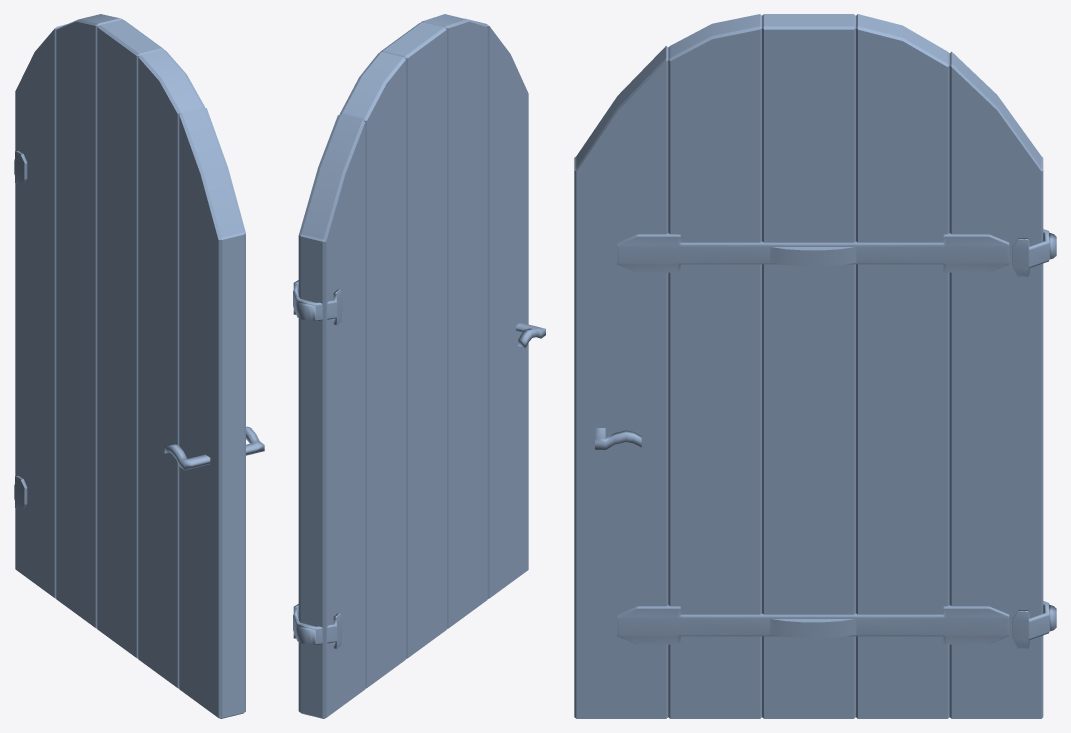
The model's file is SM_sealed_guard_room.fbx.
The picture shows the model from 3 angles, left to right: view 1: azimuth 30°, elevation 25°; view 2: azimuth 150°, elevation 25°; view 3: azimuth 270°, elevation 25°; orthographic projection. The views are drawn at different scales.
Visible parts, largest first — view 1: polySurface724; view 2: polySurface724; view 3: polySurface724.
Part boxes in pixels (x1,y1,x2,y2): polySurface724: (14, 14, 264, 718); polySurface724: (293, 14, 545, 718); polySurface724: (574, 14, 1056, 718).
Bounding box in the file's own units: 35.42 × 257 × 162.
